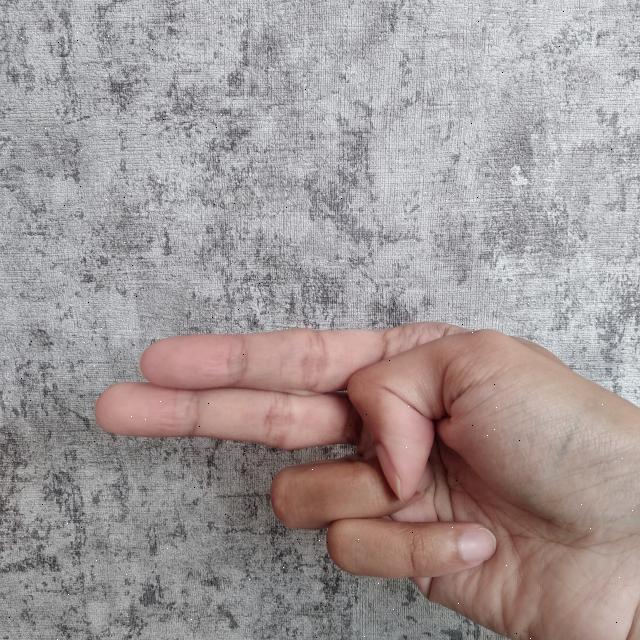H: (85, 309, 640, 640)
